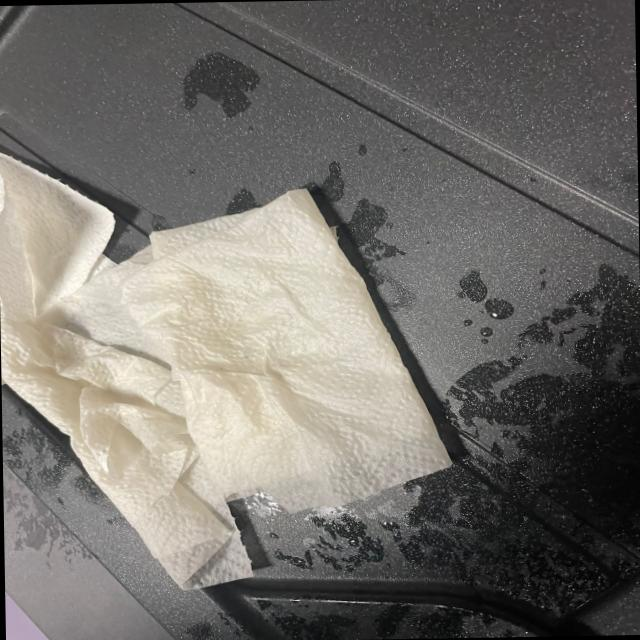organic waste: (0, 141, 469, 589)
